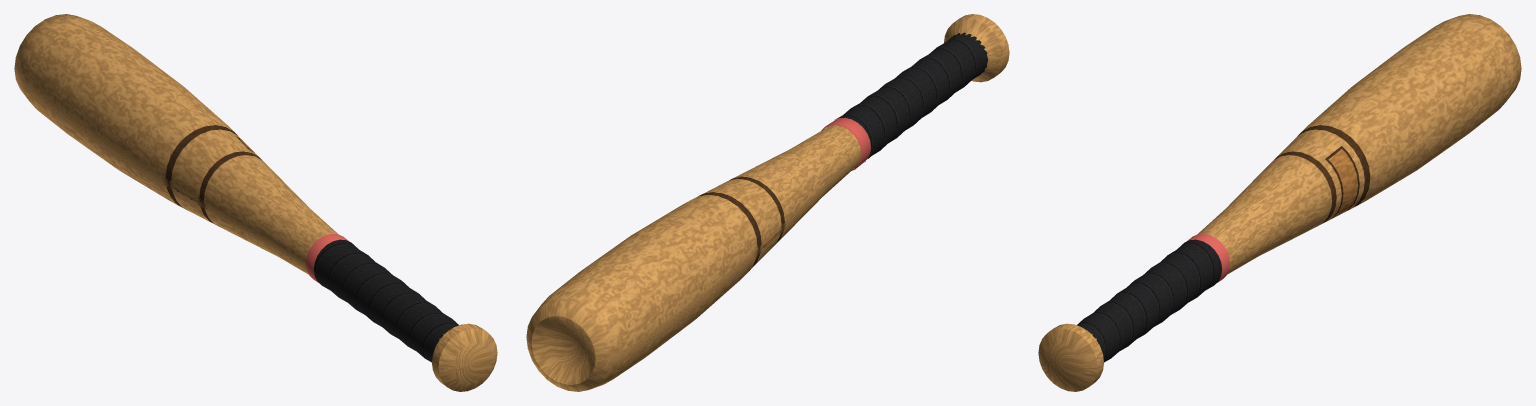
Rendered from baseball_bat.glb.
3 renders of one model, left to right at view 1: azimuth 30°, elevation 25°; view 2: azimuth 150°, elevation 25°; view 3: azimuth 330°, elevation 25°, orthographic.
Parts seen in each view (by area): view 1: BaseballBatMesh; view 2: BaseballBatMesh; view 3: BaseballBatMesh.
Part boxes in pixels (<box>): BaseballBatMesh: <box>14,14,497,391</box>; BaseballBatMesh: <box>526,14,1009,391</box>; BaseballBatMesh: <box>1038,14,1521,391</box>.
Size of the model in its own units: 0.0744 by 0.0744 by 0.58.
Materials: 3 (2 with a texture image).
